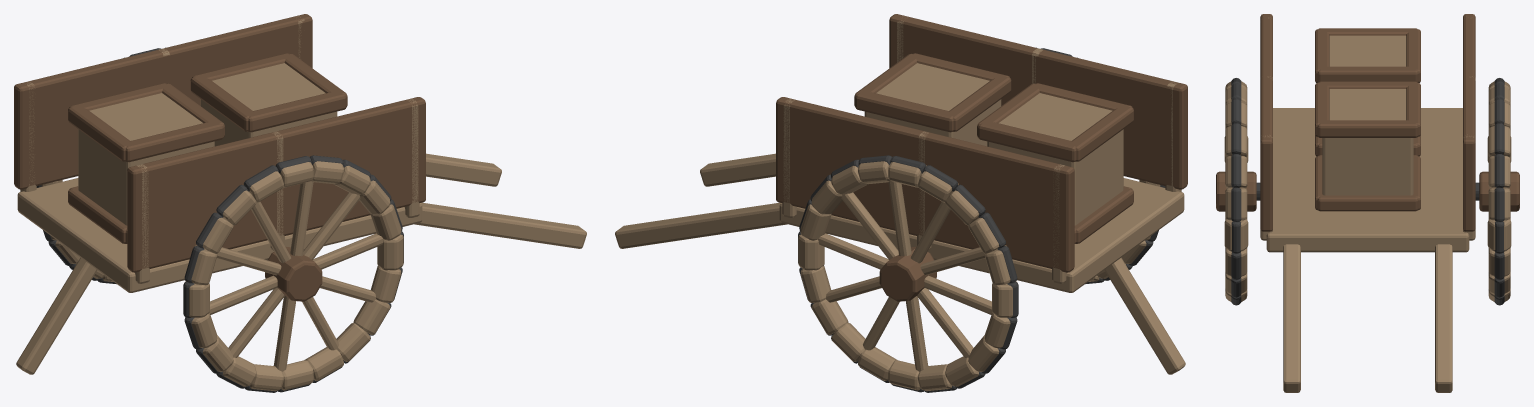
File: Handcart.fbx
3 views of the same model, side by side, from view 1: azimuth 30°, elevation 25°; view 2: azimuth 150°, elevation 25°; view 3: azimuth 270°, elevation 25° (orthographic). The views are drawn at different scales.
Visible parts, largest first — view 1: Handcart; view 2: Handcart; view 3: Handcart.
Part boxes in pixels (left/top/right/bottom): Handcart: left=14, top=14, right=586, bottom=392; Handcart: left=615, top=14, right=1187, bottom=392; Handcart: left=1216, top=14, right=1519, bottom=392.
Bounding box in the file's own units: 2.13 × 0.9466 × 1.2.
